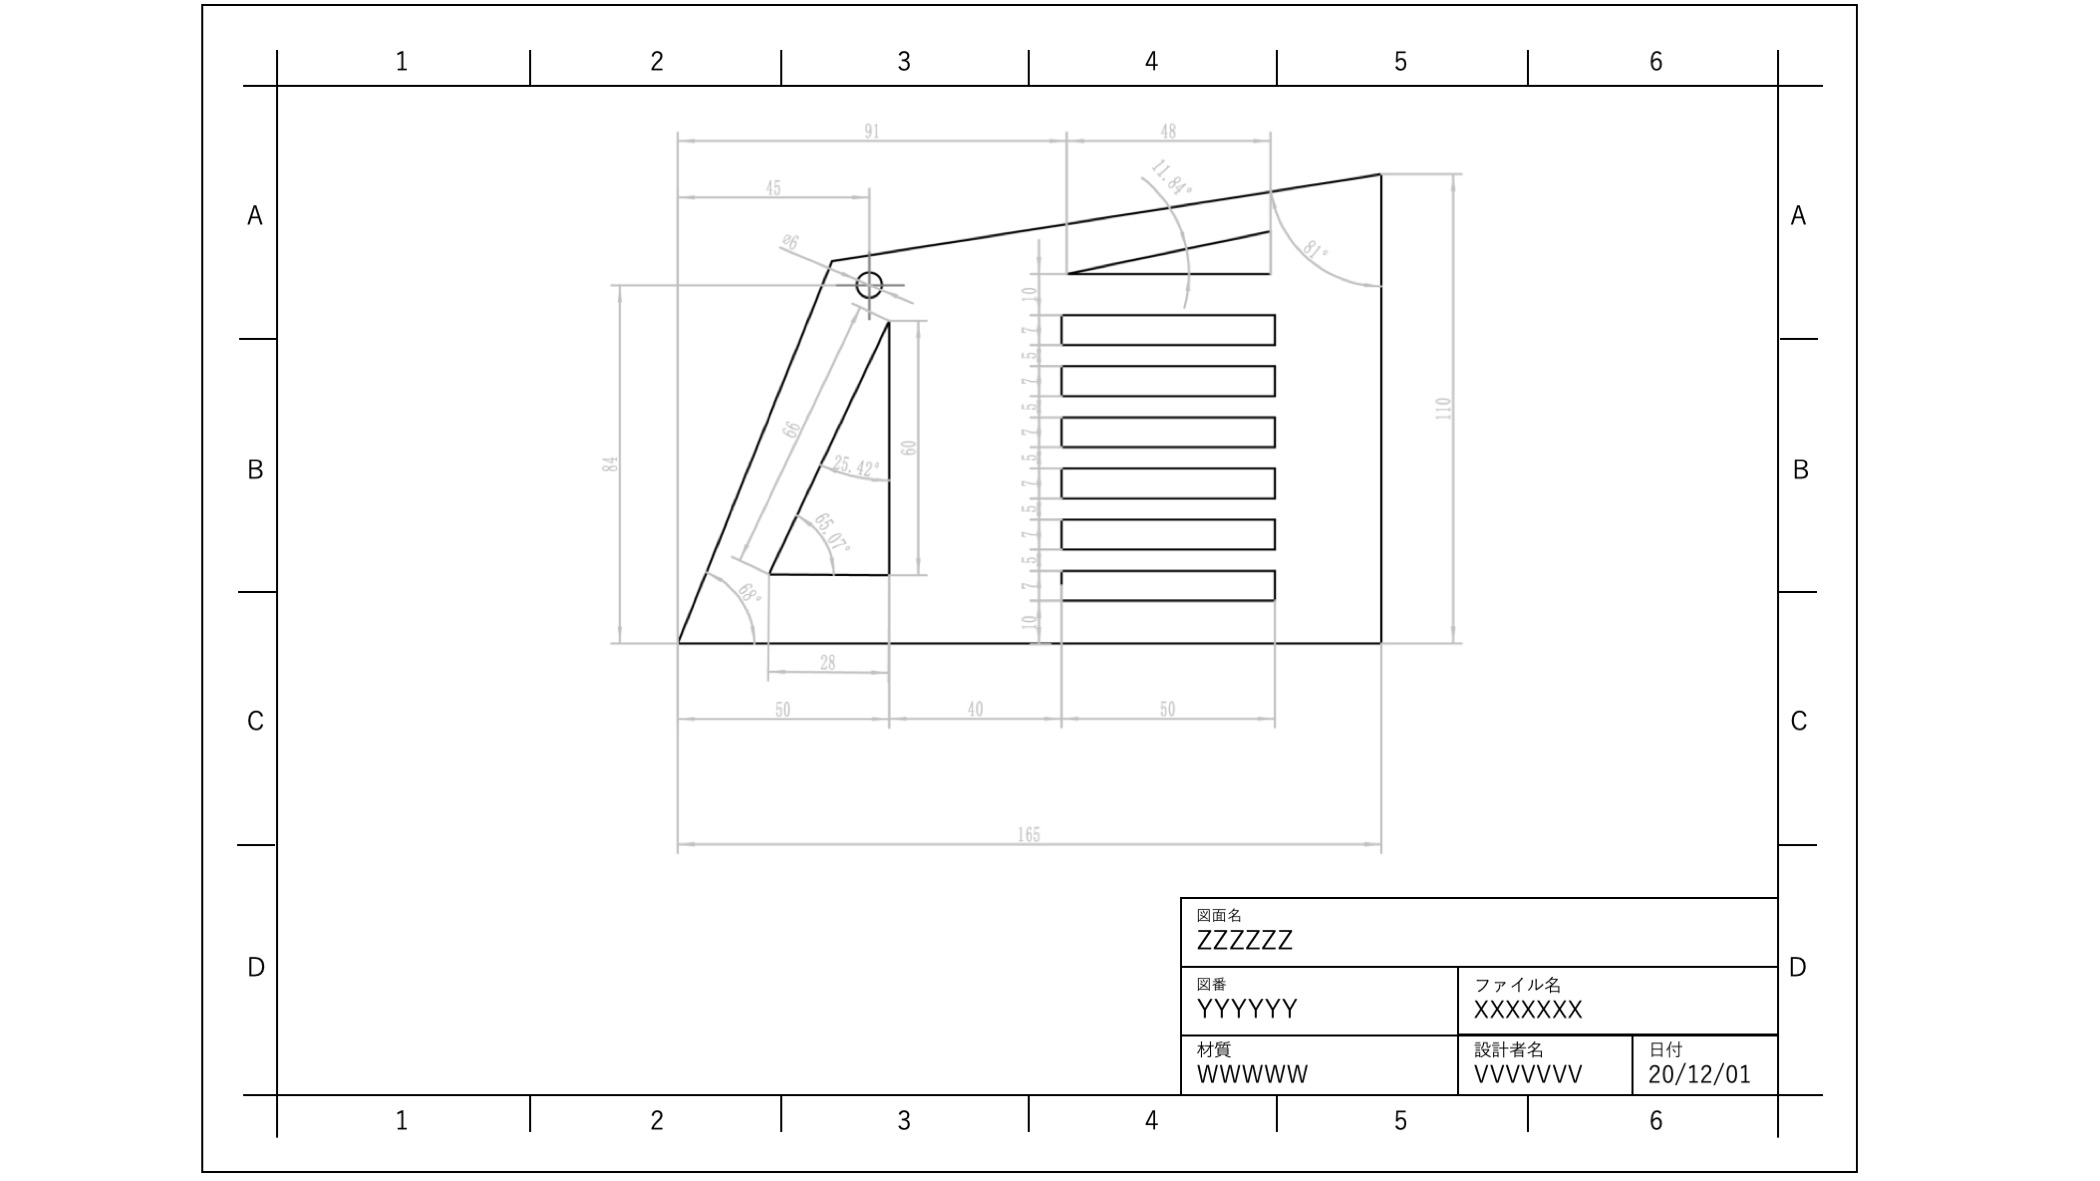circle: (854, 260, 884, 298)
rectangle: (1054, 562, 1276, 607), (1057, 355, 1278, 399), (1057, 307, 1279, 349), (1054, 411, 1282, 450), (1056, 461, 1282, 500), (1054, 513, 1279, 552)
triangle: (767, 317, 896, 583), (1063, 219, 1279, 275)
